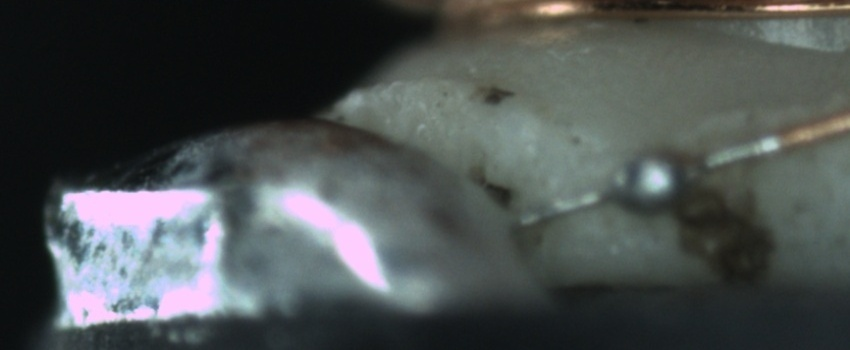TB: (597, 145, 697, 220)
TS: (504, 143, 781, 235)
TTCW: (497, 120, 822, 231)
